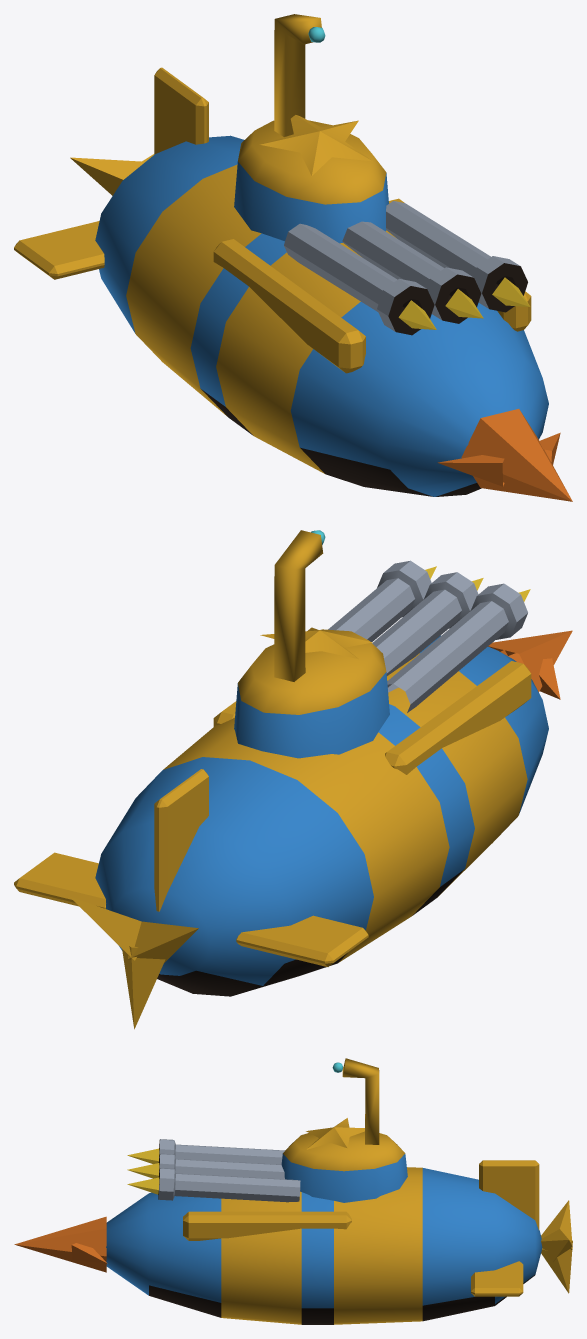
3 renders of one model, top to bottom at view 1: azimuth 30°, elevation 25°; view 2: azimuth 150°, elevation 25°; view 3: azimuth 270°, elevation 25°, orthographic. The views are drawn at different scales.
Parts seen in each view (by area): view 1: submarino_0_base, submarino_1_torreta; view 2: submarino_0_base, submarino_1_torreta; view 3: submarino_0_base, submarino_1_torreta.
Boxes of the visible parts, bbox=[...] form: submarino_0_base: bbox=[14, 67, 572, 501]; submarino_1_torreta: bbox=[234, 14, 530, 335]; submarino_0_base: bbox=[14, 630, 572, 1029]; submarino_1_torreta: bbox=[234, 530, 530, 758]; submarino_0_base: bbox=[14, 1160, 572, 1324]; submarino_1_torreta: bbox=[127, 1058, 407, 1202].
Bounding box in the file's own units: 0.58 × 0.6953 × 1.39.
